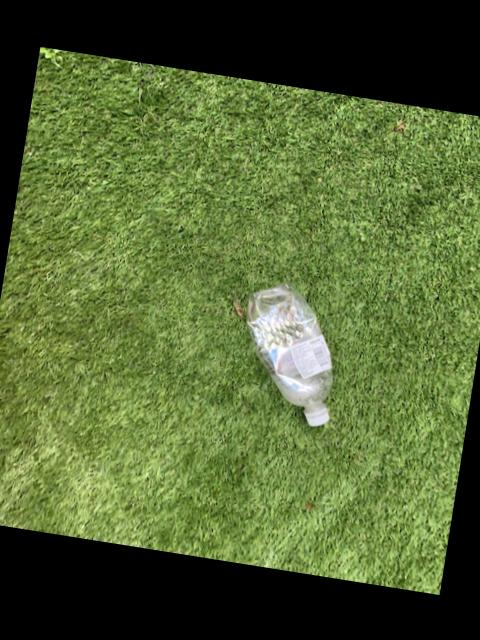plastic: (247, 284, 334, 426)
